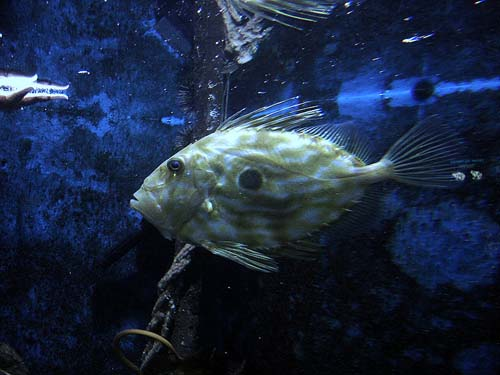fish: (130, 97, 468, 273)
